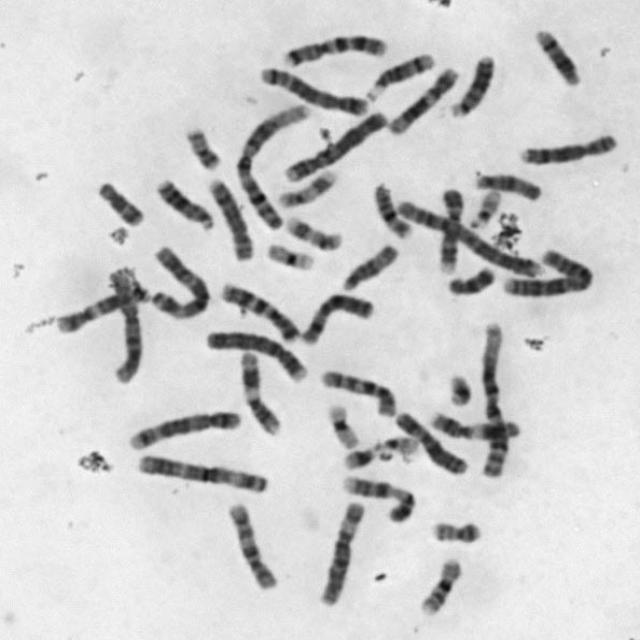A1: (232, 101, 312, 231), (478, 319, 513, 482)
A2: (392, 196, 542, 279), (499, 245, 594, 299)
A3: (132, 449, 272, 497), (146, 242, 211, 321)
B4: (279, 107, 390, 184), (202, 326, 310, 384)
B5: (256, 62, 368, 117), (125, 407, 243, 451)
C10: (223, 498, 280, 592), (316, 366, 398, 419)
C11: (237, 347, 283, 438), (426, 408, 522, 443)
C12: (52, 280, 152, 335), (386, 64, 460, 136)
C6: (314, 498, 368, 607), (100, 269, 147, 380)
C7: (216, 278, 300, 344), (278, 30, 388, 68)
C8: (204, 175, 254, 262), (515, 129, 620, 167)
C9: (338, 472, 416, 523), (434, 184, 466, 276)
D13: (153, 174, 215, 233), (446, 51, 497, 118)
D14: (362, 49, 435, 101), (530, 24, 582, 89)
D15: (338, 242, 401, 292), (470, 168, 544, 202)
E16: (416, 556, 462, 618), (369, 180, 414, 240)
E17: (275, 165, 339, 211), (282, 212, 344, 253)
E18: (92, 178, 146, 227), (443, 264, 497, 298)
F19: (323, 400, 361, 449), (263, 240, 318, 272)
F20: (181, 124, 223, 172), (427, 516, 482, 545)
G21: (339, 440, 382, 470), (444, 369, 475, 408)
G22: (466, 187, 504, 229), (372, 432, 422, 462)
X: (391, 408, 470, 476), (297, 289, 376, 347)
